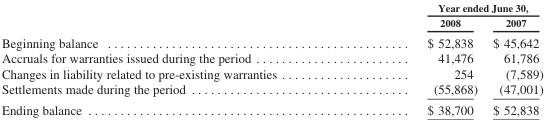table: (0, 1, 542, 116)
table column: (0, 1, 351, 116), (351, 1, 484, 116), (484, 1, 542, 116)
table column header: (0, 1, 542, 31)
table row: (0, 31, 542, 50), (0, 81, 542, 99), (0, 14, 542, 31), (0, 99, 542, 116), (0, 65, 542, 81), (0, 50, 542, 65), (0, 1, 542, 14)
table spanning cell: (351, 1, 542, 14)
